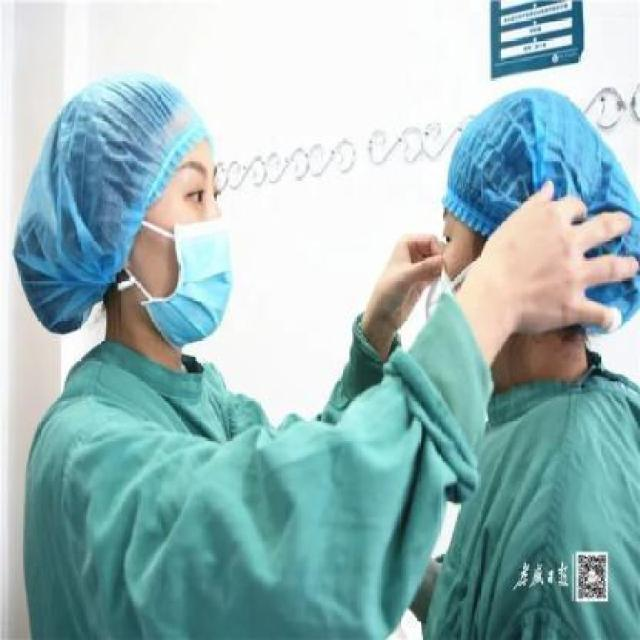face_mask: (136, 146, 247, 359)
hand_noglove: (476, 177, 638, 334), (368, 230, 444, 332)
head_nohelmet: (383, 89, 559, 228), (65, 58, 223, 154)
person: (24, 44, 355, 640), (341, 57, 640, 640)
